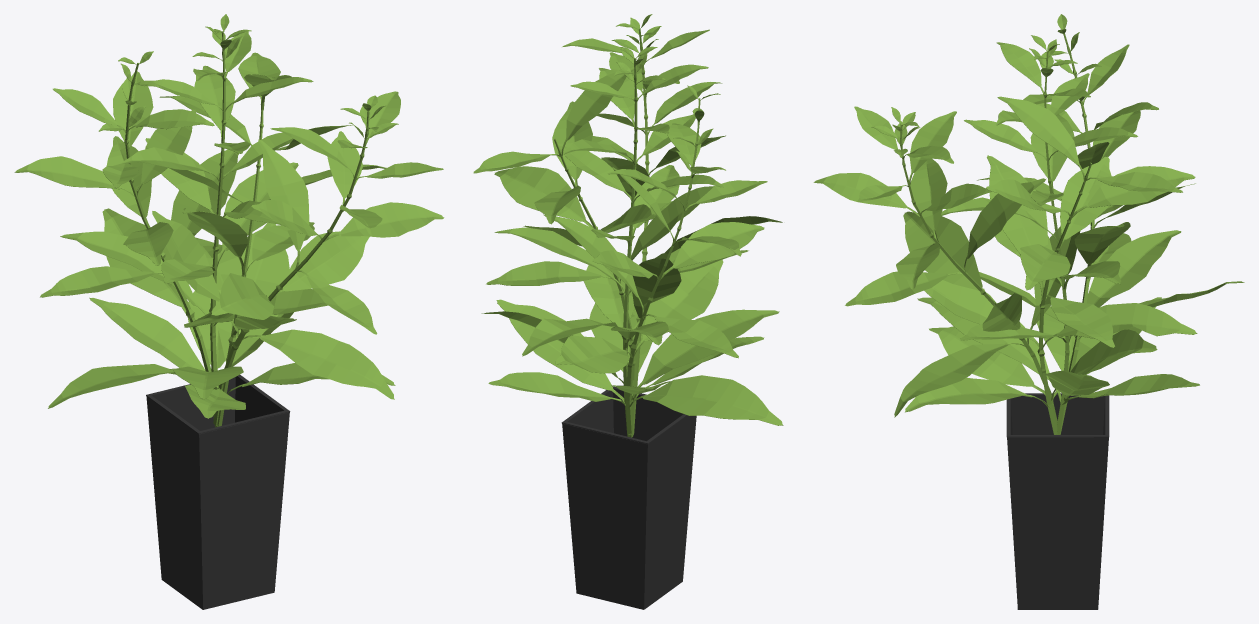
File: цветок5.fbx
The picture shows the model from 3 angles, left to right: view 1: azimuth 30°, elevation 25°; view 2: azimuth 150°, elevation 25°; view 3: azimuth 270°, elevation 25°; orthographic projection. The views are drawn at different scales.
Visible parts, largest first — view 1: URBI SQUARE BETON EFFECT antracit 40, Plane.001, Plane.004, Plane, Plane.003, Cube, Cube.003, Cube.002, Plane.005, Cube.001, Plane.002, Plane.006; view 2: URBI SQUARE BETON EFFECT antracit 40, Plane.004, Plane, Plane.003, Plane.001, Cube.002, Cube, Cube.003, Plane.002, Cube.001, Plane.006, Plane.005; view 3: Plane.001, URBI SQUARE BETON EFFECT antracit 40, Plane.003, Plane, Plane.004, Cube.001, Cube.003, Cube, Plane.006, Cube.002, Plane.002.
Part boxes in pixels (x1,y1,x2,y2): URBI SQUARE BETON EFFECT antracit 40: (146,374,290,609); Plane.001: (152,91,444,418); Plane.004: (14,71,293,408); Plane: (60,31,328,399); Plane.003: (89,52,395,394); Cube: (209,32,226,426); Cube.003: (213,111,369,425); Cube.002: (124,63,216,427); Plane.005: (98,51,159,131); Cube.001: (217,96,263,426); Plane.002: (192,14,251,62); Plane.006: (340,95,398,139); URBI SQUARE BETON EFFECT antracit 40: (561,386,696,609); Plane.004: (496,123,783,425); Plane: (488,64,779,405); Plane.003: (473,67,714,399); Plane.001: (481,29,782,397); Cube.002: (625,98,700,437); Cube: (621,58,637,437); Cube.003: (628,28,649,435); Plane.002: (614,46,665,84); Cube.001: (554,138,635,386); Plane.006: (611,14,661,52); Plane.005: (673,85,725,171); Plane.001: (813,106,1157,417); URBI SQUARE BETON EFFECT antracit 40: (1006,393,1109,609); Plane.003: (905,96,1197,412); Plane: (917,42,1199,404); Plane.004: (977,44,1244,401); Cube.001: (1037,162,1091,434); Cube.003: (899,124,1057,425); Cube: (1043,51,1069,434); Plane.006: (871,107,920,157); Cube.002: (1056,33,1094,434); Plane.002: (1029,35,1077,78).
Bounding box in the file's own units: 99.27 × 166 × 117.
